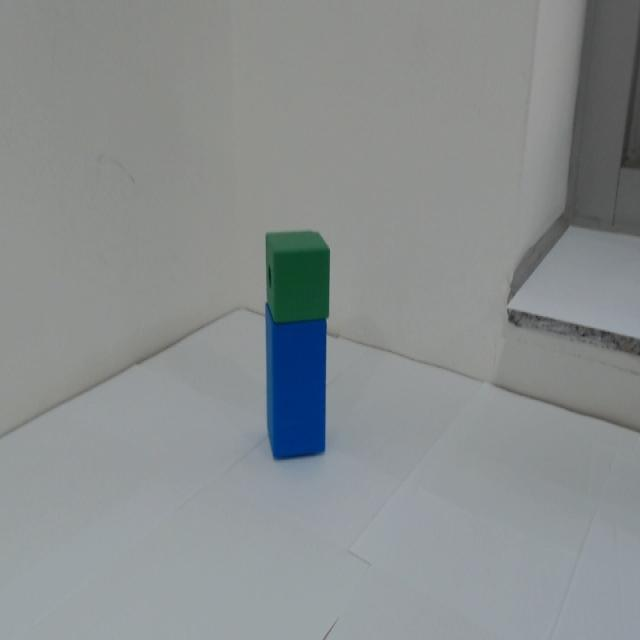cube: (259, 231, 348, 319)
